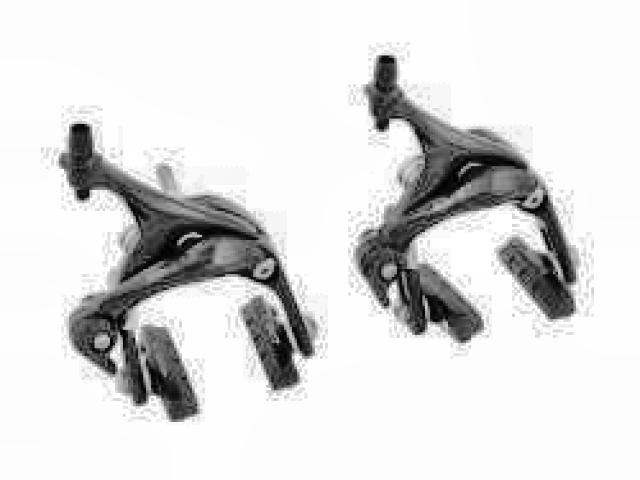rim_brake: (59, 121, 318, 425), (354, 54, 580, 343)
